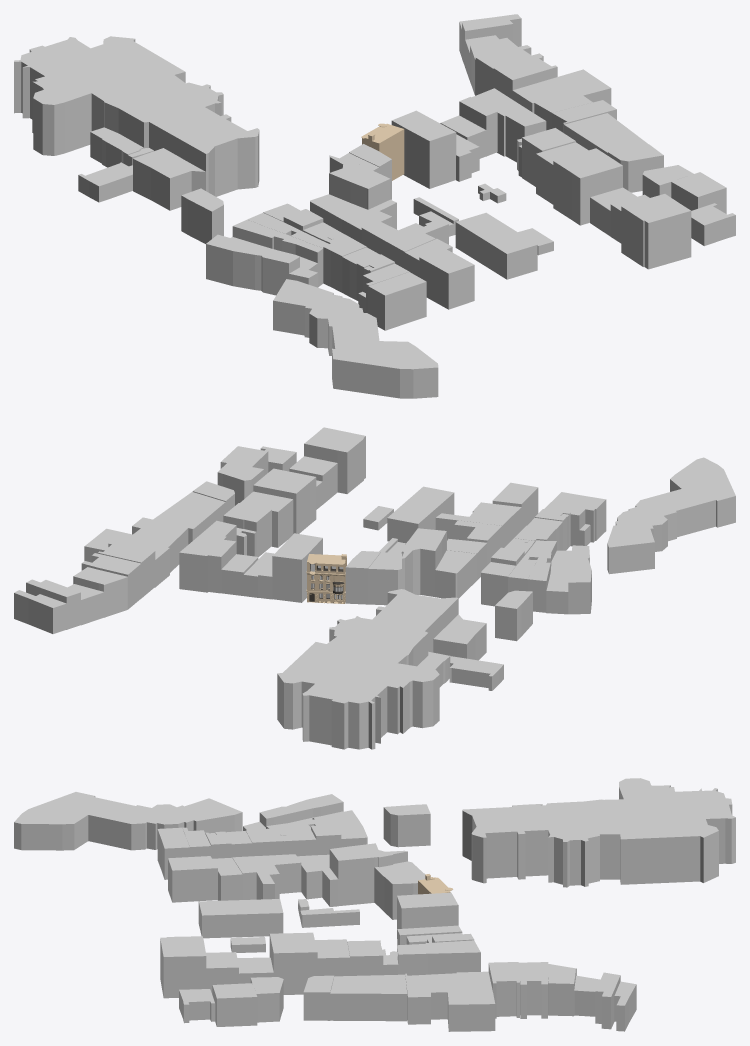
Rendered from bordeaux_hotel_fruges.glb.
The picture shows the model from 3 angles, top to bottom: view 1: azimuth 30°, elevation 25°; view 2: azimuth 150°, elevation 25°; view 3: azimuth 270°, elevation 25°; orthographic projection. The views are drawn at different scales.
Parts seen in each view (by area): view 1: bordeaux-2, bordeaux-2-focus; view 2: bordeaux-2, bordeaux-2-focus; view 3: bordeaux-2, bordeaux-2-focus.
Part boxes in pixels (x1,y1,x2,y2): bordeaux-2: [14, 14, 735, 398]; bordeaux-2-focus: [361, 123, 404, 180]; bordeaux-2: [14, 427, 735, 749]; bordeaux-2-focus: [306, 554, 346, 603]; bordeaux-2: [14, 778, 735, 1031]; bordeaux-2-focus: [418, 874, 452, 894].
Size of the model in its own units: 35.4 by 4.01 by 50.7.
